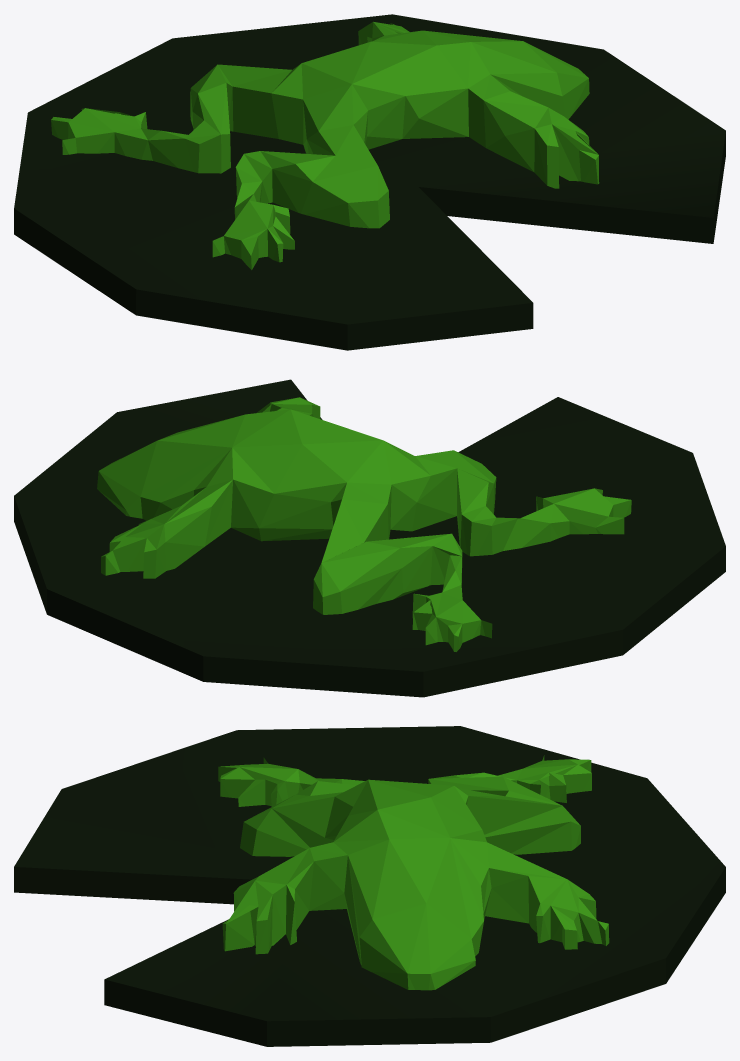
The model's file is frog.fbx.
3 views of the same model, one above another, from view 1: azimuth 30°, elevation 25°; view 2: azimuth 150°, elevation 25°; view 3: azimuth 270°, elevation 25° (orthographic).
Parts seen in each view (by area): view 1: Lilypad_Cylinder.001, Frog_Plane.004; view 2: Lilypad_Cylinder.001, Frog_Plane.004; view 3: Lilypad_Cylinder.001, Frog_Plane.004.
Boxes of the visible parts, x1,y1,x2,y2 form: Lilypad_Cylinder.001: (14,14,725,350); Frog_Plane.004: (51,21,599,269); Lilypad_Cylinder.001: (14,379,725,697); Frog_Plane.004: (97,397,631,651); Lilypad_Cylinder.001: (14,726,725,1046); Frog_Plane.004: (218,755,609,990).
Size of the model in its own units: 93.28 by 19.01 by 95.08.
